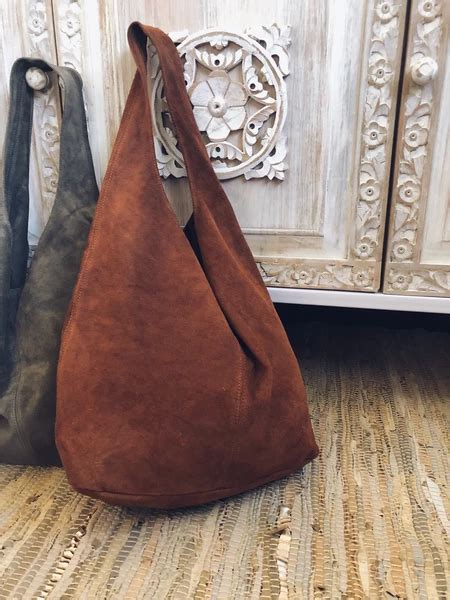gamuza: (3, 23, 321, 513)
